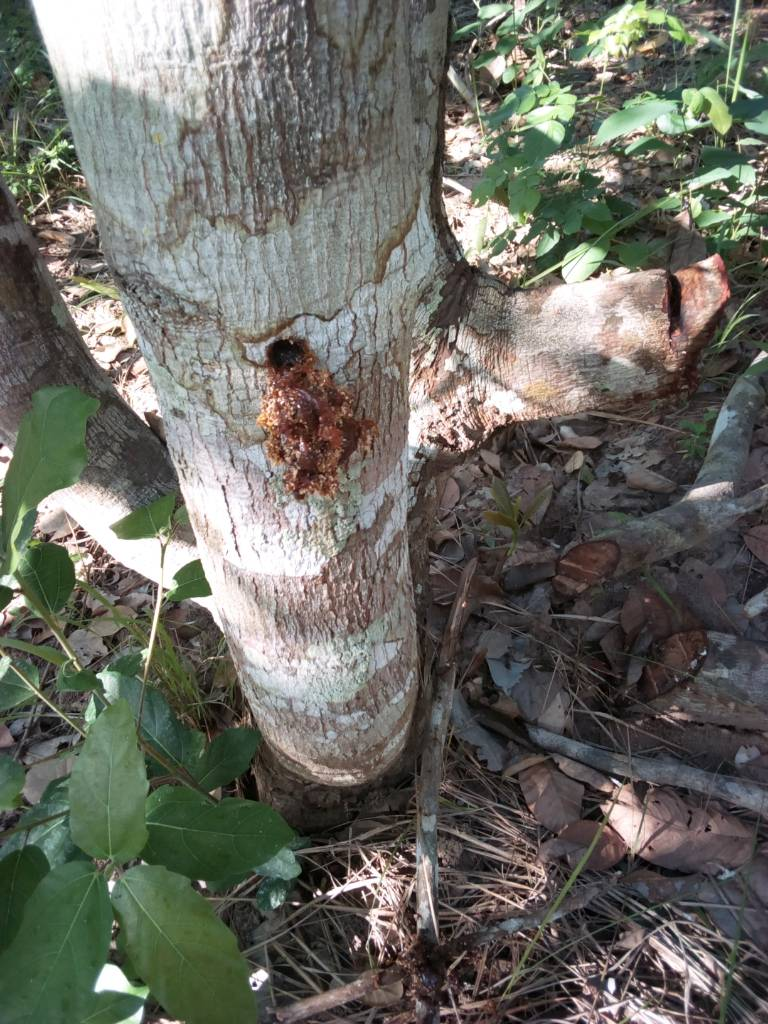Apate terebrans: (210, 304, 429, 502)
